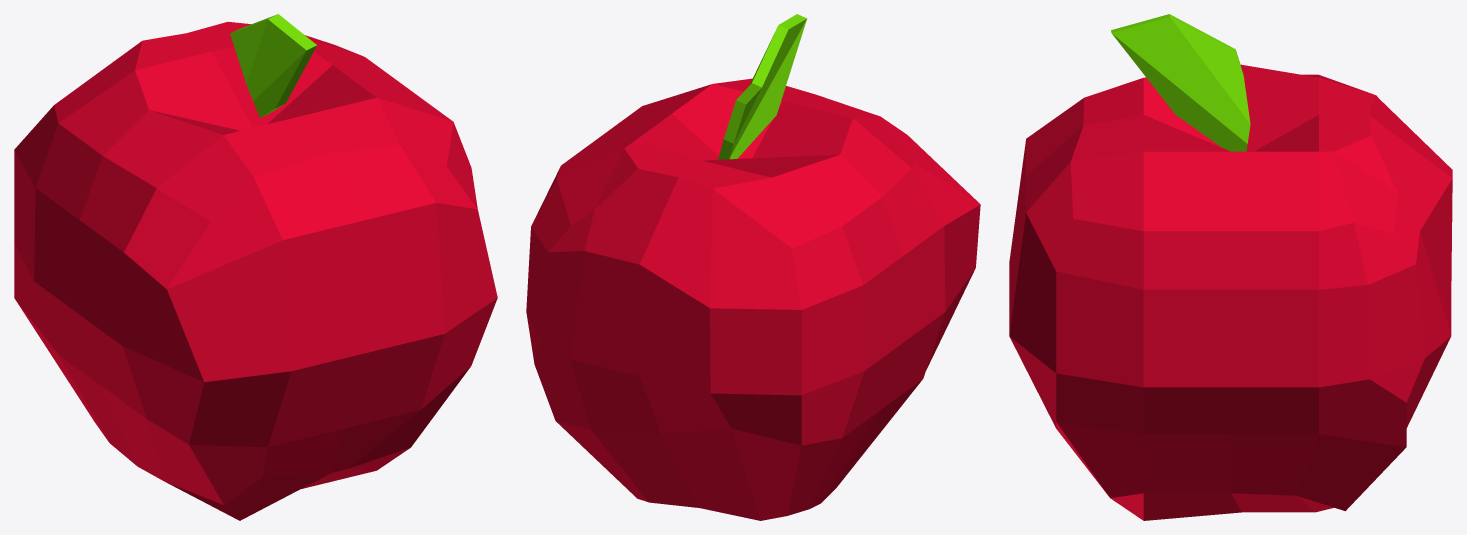
The model's file is Apple.fbx.
The picture shows the model from 3 angles, left to right: view 1: azimuth 30°, elevation 25°; view 2: azimuth 150°, elevation 25°; view 3: azimuth 270°, elevation 25°; orthographic projection. The views are drawn at different scales.
Visible parts, largest first — view 1: Apple, Leaf; view 2: Apple, Leaf; view 3: Apple, Leaf.
Boxes of the visible parts, x1,y1,x2,y2 form: Apple: (14, 21, 497, 520); Leaf: (230, 14, 316, 117); Apple: (526, 78, 980, 520); Leaf: (718, 14, 807, 159); Apple: (1009, 64, 1452, 520); Leaf: (1111, 14, 1250, 151).
Size of the model in its own units: 274 by 351 by 295.
